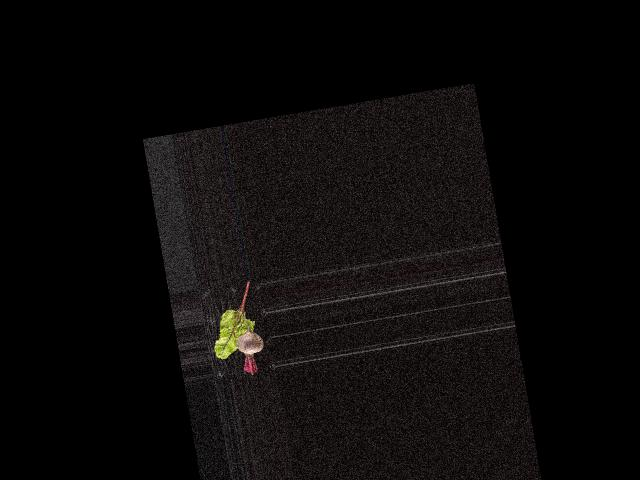beet: (231, 306, 268, 376)
